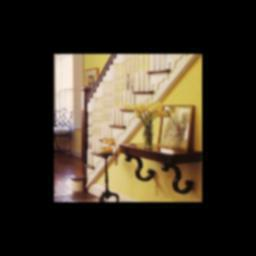Escaleras: (70, 54, 187, 191)
